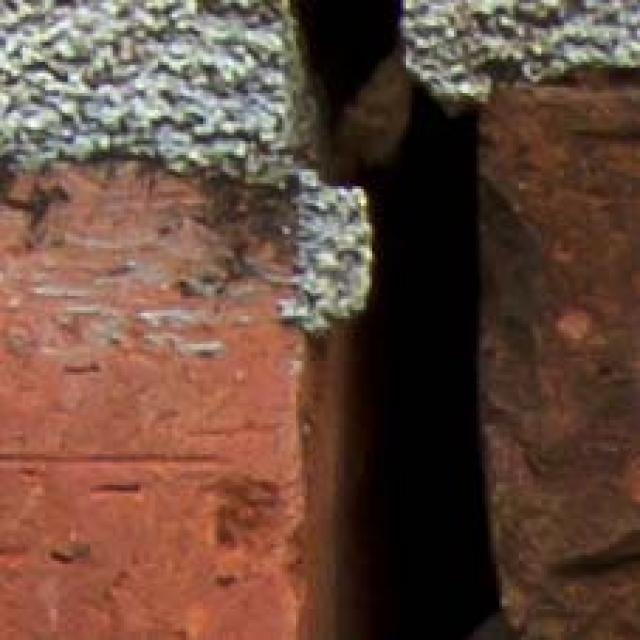Crack: (139, 0, 559, 640)
